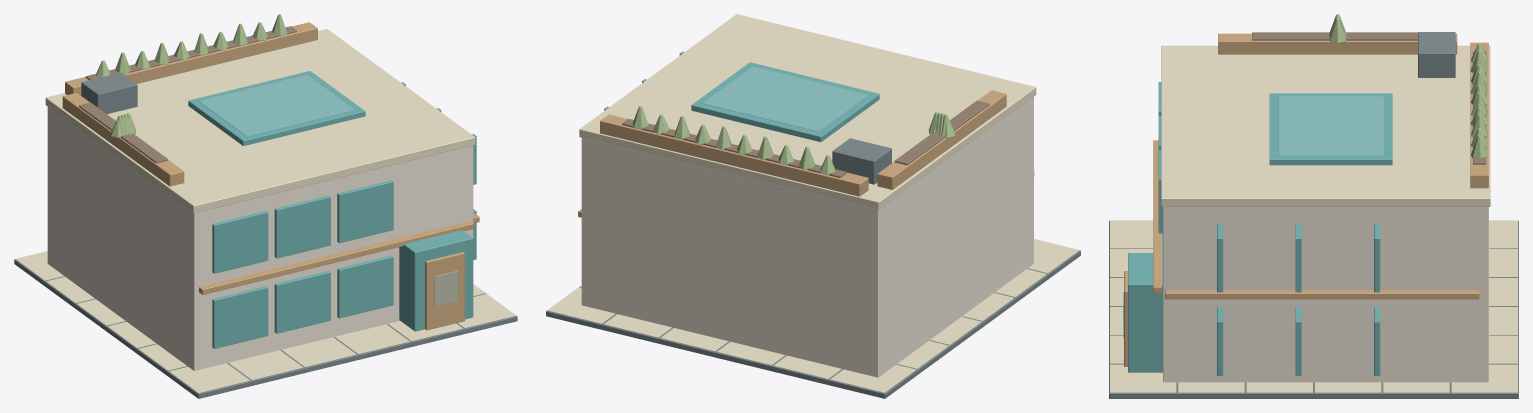
The model's file is b08-harbor-gym.glb.
3 views of the same model, side by side, from view 1: azimuth 30°, elevation 25°; view 2: azimuth 150°, elevation 25°; view 3: azimuth 270°, elevation 25° (orthographic). The views are drawn at different scales.
Visible parts, largest first — view 1: MM_STR_B08_HARBOR_GYM_A_LOD0; view 2: MM_STR_B08_HARBOR_GYM_A_LOD0; view 3: MM_STR_B08_HARBOR_GYM_A_LOD0.
Boxes of the visible parts, x1,y1,x2,y2 form: MM_STR_B08_HARBOR_GYM_A_LOD0: (14,14,517,398); MM_STR_B08_HARBOR_GYM_A_LOD0: (546,14,1080,398); MM_STR_B08_HARBOR_GYM_A_LOD0: (1109,14,1518,398).
Size of the model in its own units: 12.28 by 7.26 by 12.
